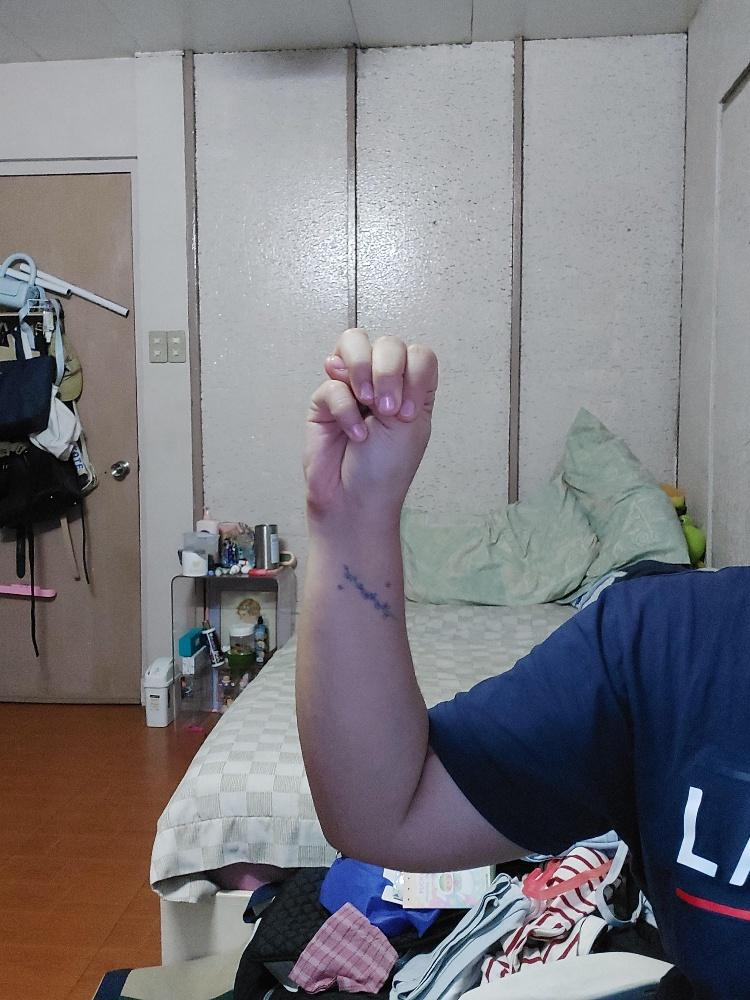m: (302, 326, 438, 511)
